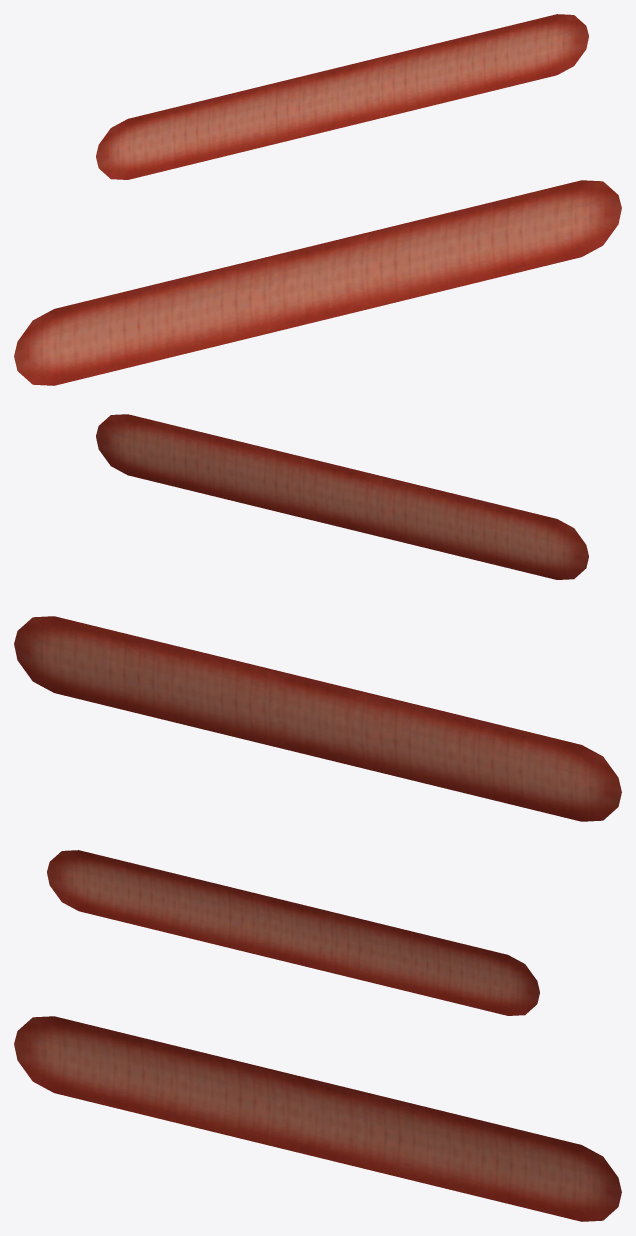
The model's file is vt49_engine_s01_on_l0.fbx.
The picture shows the model from 3 angles, top to bottom: view 1: azimuth 30°, elevation 25°; view 2: azimuth 150°, elevation 25°; view 3: azimuth 330°, elevation 25°; orthographic projection.
Visible parts, largest first — view 1: mesh_node; view 2: mesh_node; view 3: mesh_node.
Part boxes in pixels (left/top/right/bottom): mesh_node: left=14, top=14, right=621, bottom=385; mesh_node: left=14, top=414, right=621, bottom=821; mesh_node: left=14, top=850, right=621, bottom=1221.
Bounding box in the file's own units: 9.75 × 4.18 × 0.75.
Materials: 1 (1 with a texture image).
